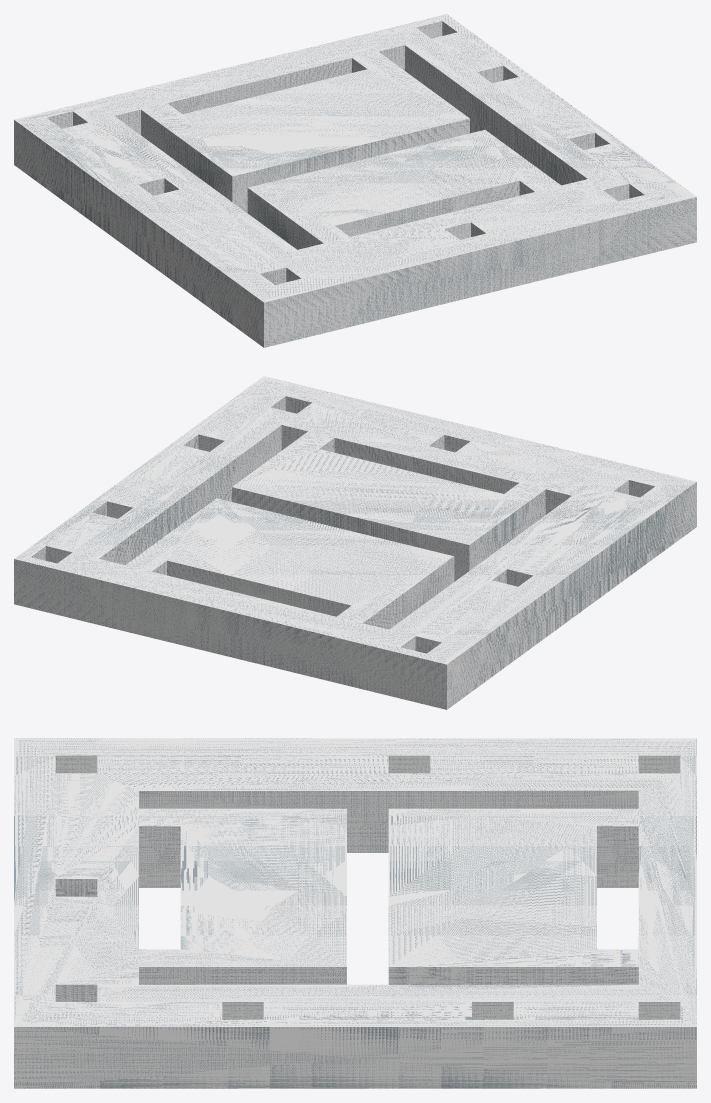
3 views of the same model, one above another, from view 1: azimuth 30°, elevation 25°; view 2: azimuth 150°, elevation 25°; view 3: azimuth 270°, elevation 25° (orthographic). The views are drawn at different scales.
Visible parts, largest first — view 1: Model; view 2: Model; view 3: Model.
Part boxes in pixels (x1,y1,x2,y2): Model: [14, 14, 696, 347]; Model: [14, 376, 696, 709]; Model: [14, 738, 696, 1088].
Bounding box in the file's own units: 5 × 0.5 × 5.
